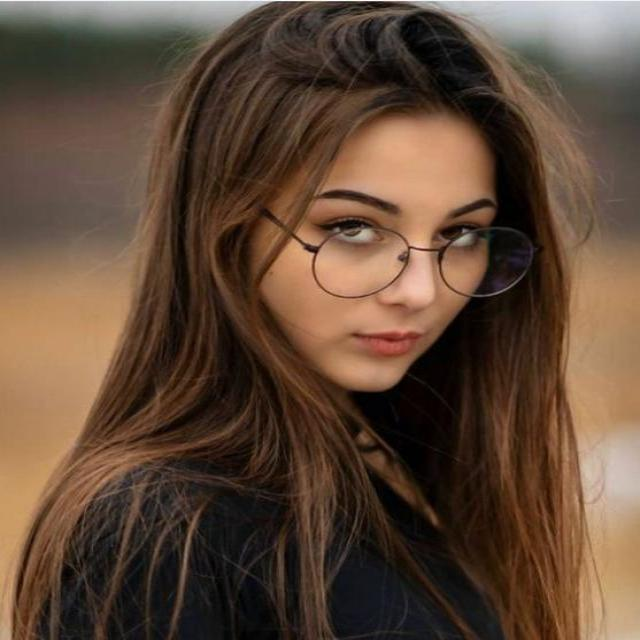glasses: (259, 206, 536, 300)
